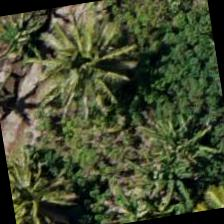Kelapa_Sawit: (26, 12, 128, 116)
